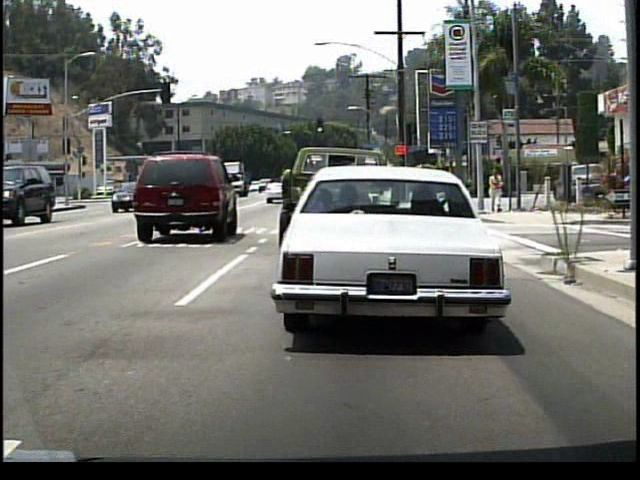person: (489, 167, 506, 214)
